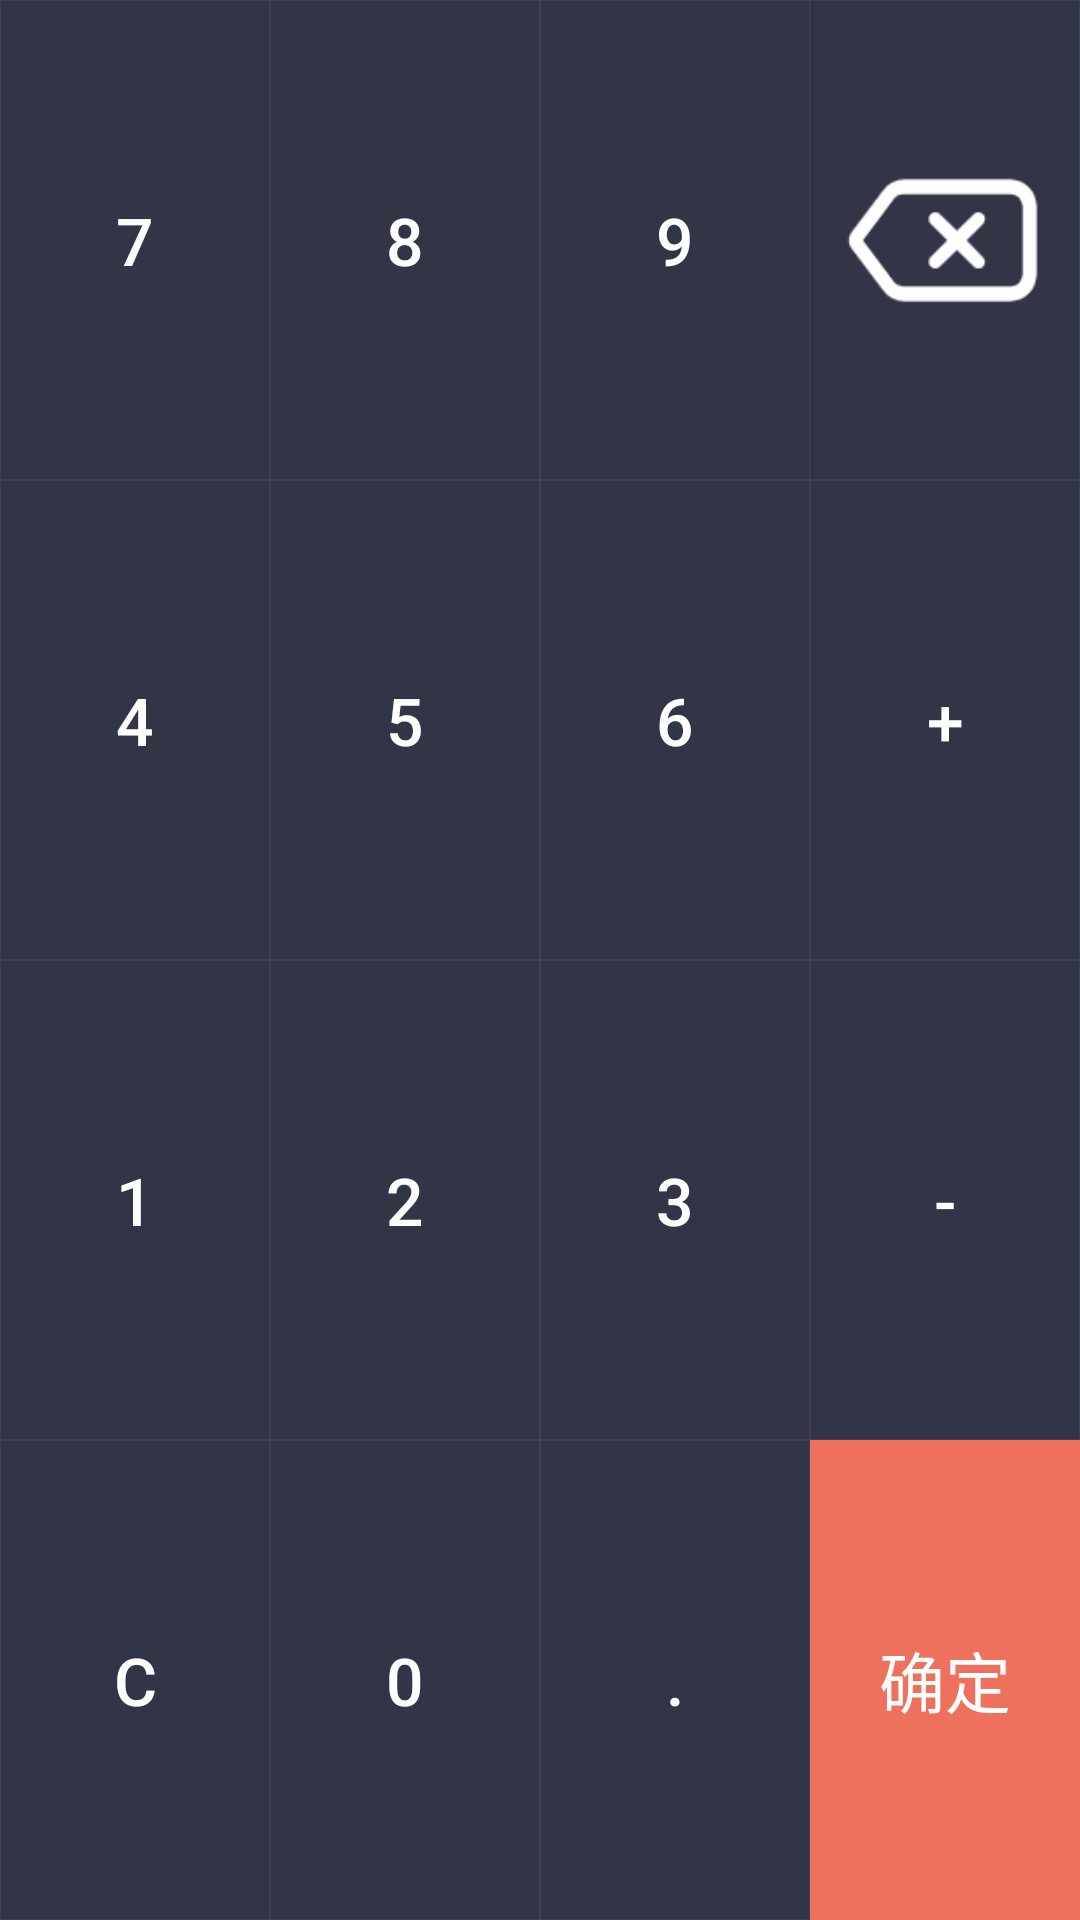

Locate icon controls on the screen. Image size 1080×1920, boxes as (x1,y1,x2,y2).
delete cal: (848,178,1038,302)
